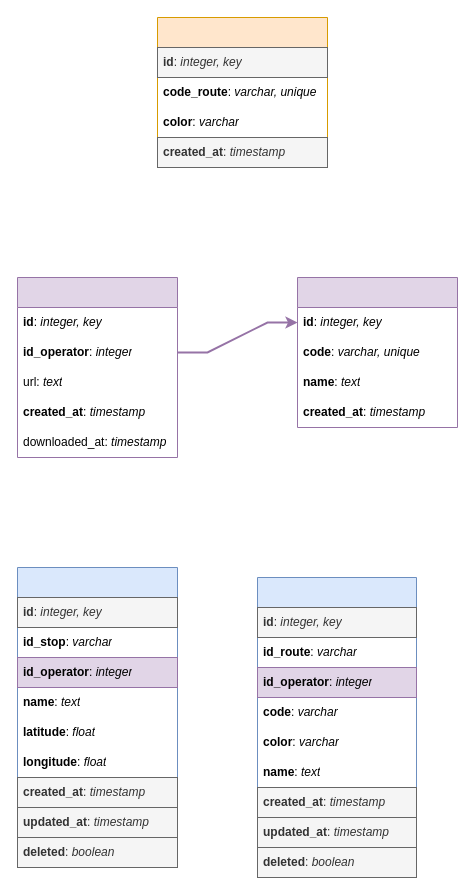
Some shapes in this 475 by 895 pixel diagram are drawn without their labels. The shapes that lost their labels are listed below. From the top down, each one's box as (x1, y1, x2, y2) in pixels, then its label:
(156, 16, 328, 168): carris colors
(16, 276, 178, 458): operator sources
(296, 276, 458, 428): operators
(16, 566, 178, 868): stops
(256, 576, 416, 878): routes
